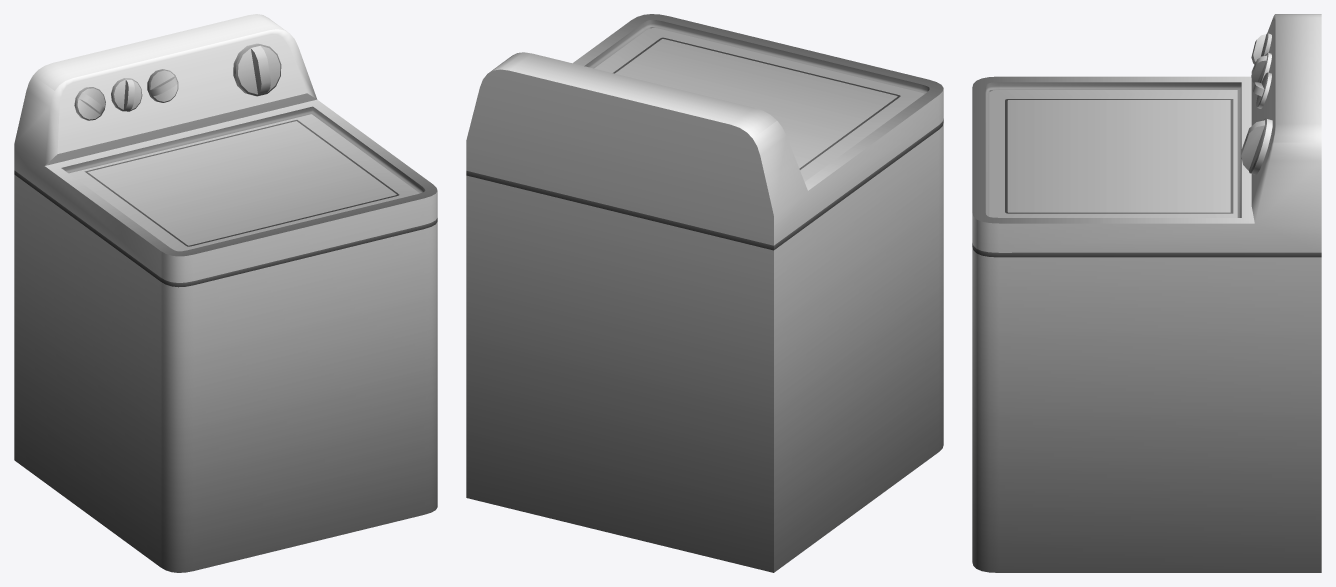
Rendered from Washer.FBX.
The picture shows the model from 3 angles, left to right: view 1: azimuth 30°, elevation 25°; view 2: azimuth 150°, elevation 25°; view 3: azimuth 270°, elevation 25°; orthographic projection. The views are drawn at different scales.
Parts seen in each view (by area): view 1: Washer; view 2: Washer; view 3: Washer.
Part boxes in pixels (left/top/right/bottom): Washer: left=14, top=14, right=437, bottom=572; Washer: left=466, top=14, right=943, bottom=572; Washer: left=972, top=14, right=1321, bottom=572.
Bounding box in the file's own units: 90.96 × 124 × 91.46.
1 material, 1 textured.
